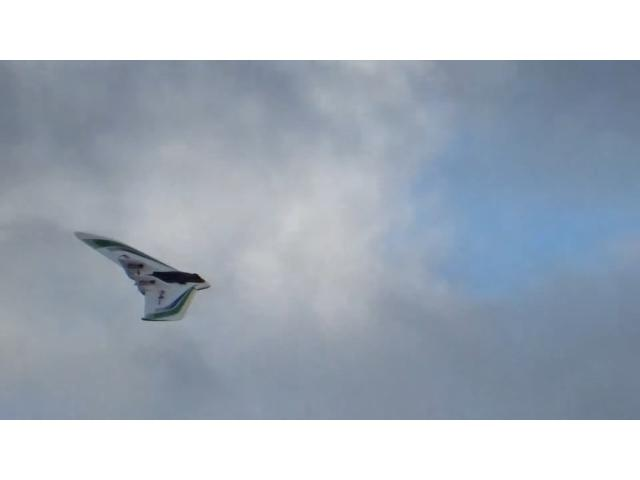Anti-Drone: (71, 226, 213, 324)
